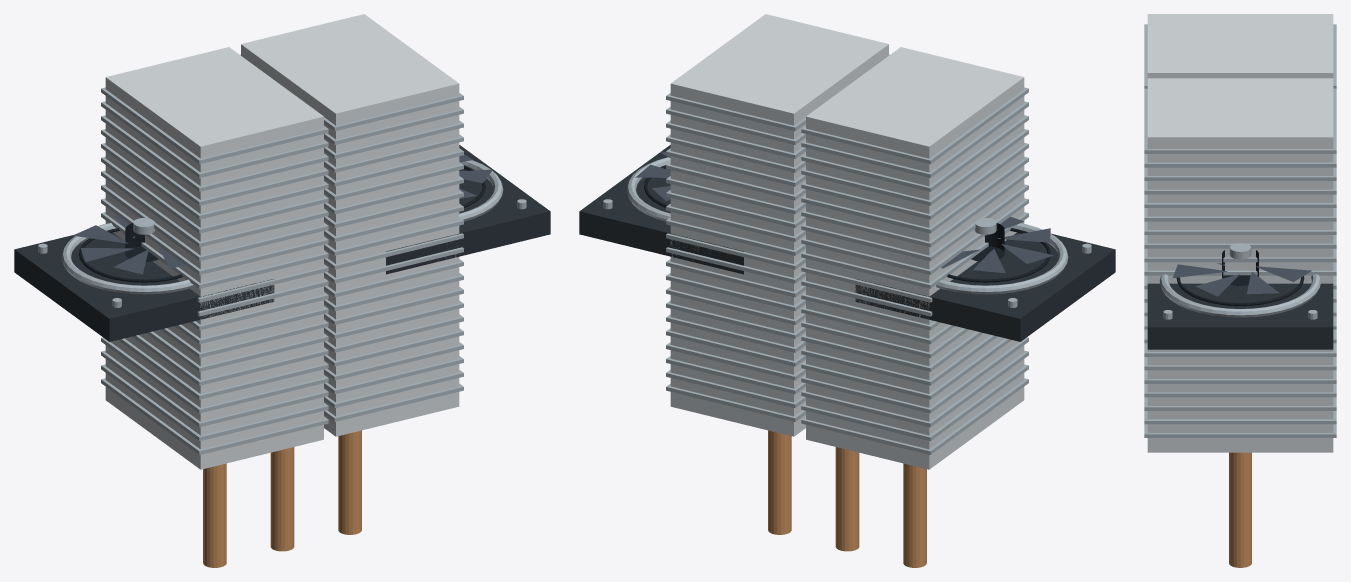
The model's file is tower-air-120.glb.
The picture shows the model from 3 angles, left to right: view 1: azimuth 30°, elevation 25°; view 2: azimuth 150°, elevation 25°; view 3: azimuth 270°, elevation 25°; orthographic projection. The views are drawn at different scales.
Visible parts, largest first — view 1: tower-air-120; view 2: tower-air-120; view 3: tower-air-120.
Part boxes in pixels (<box>): tower-air-120: <box>14,14,550,567</box>; tower-air-120: <box>579,14,1115,567</box>; tower-air-120: <box>1144,14,1336,567</box>.
Size of the model in its own units: 1.5 by 1.51 by 0.58.
